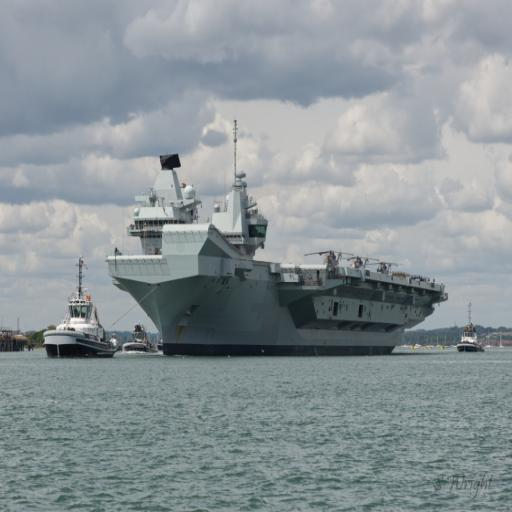Portanaves: (104, 129, 451, 364)
